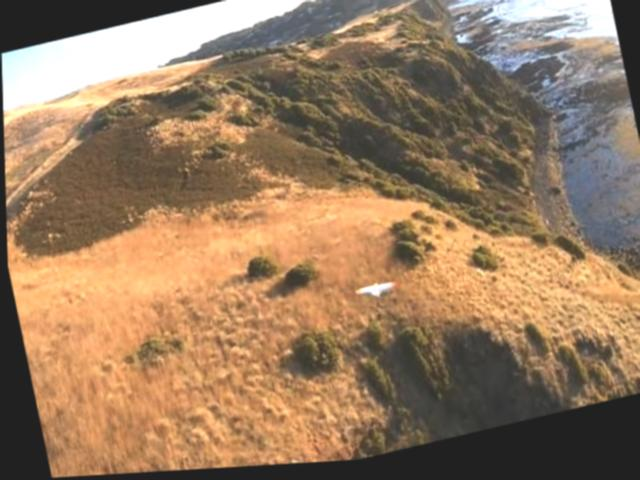uav: (348, 277, 400, 312)
